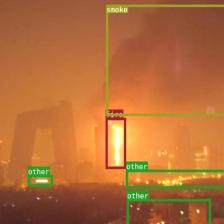fire: (105, 117, 125, 168)
smoke: (105, 3, 224, 115)
